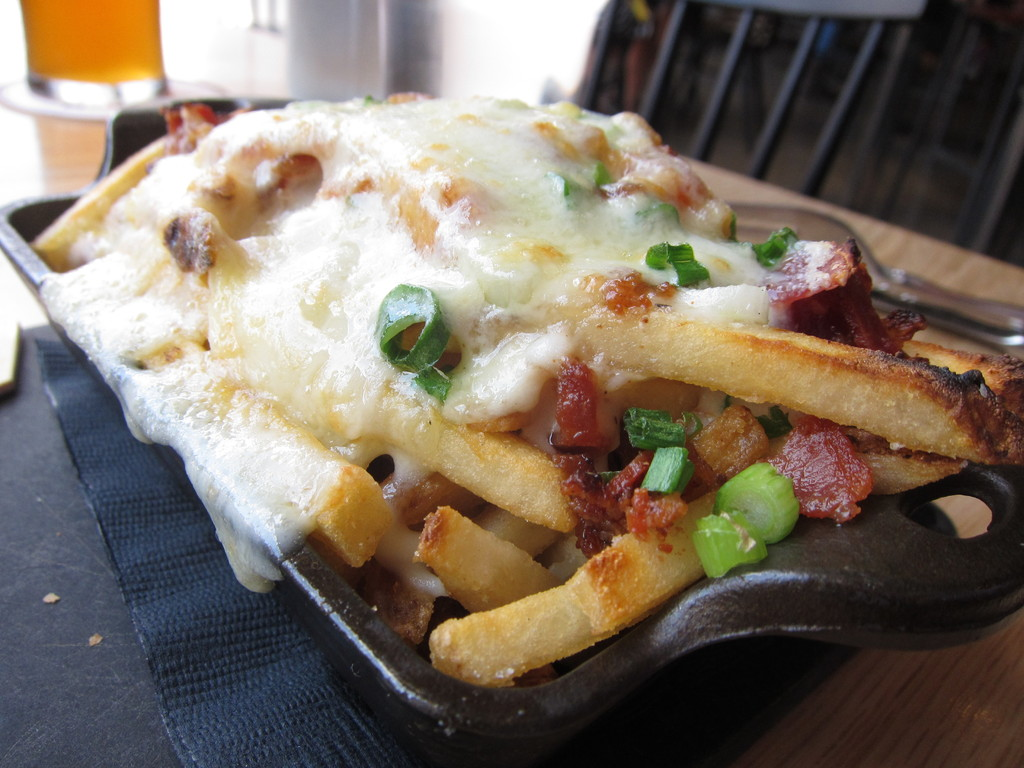French fries: (8, 133, 937, 666)
